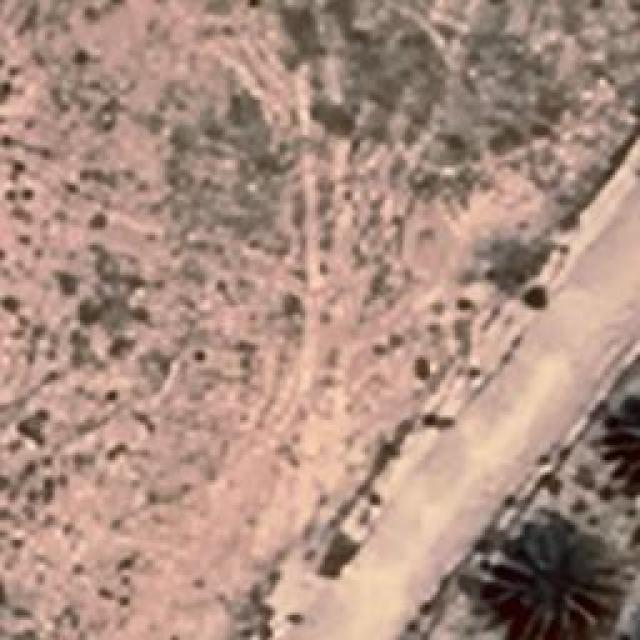PalmTree: (31, 99, 560, 582), (120, 100, 625, 443)
